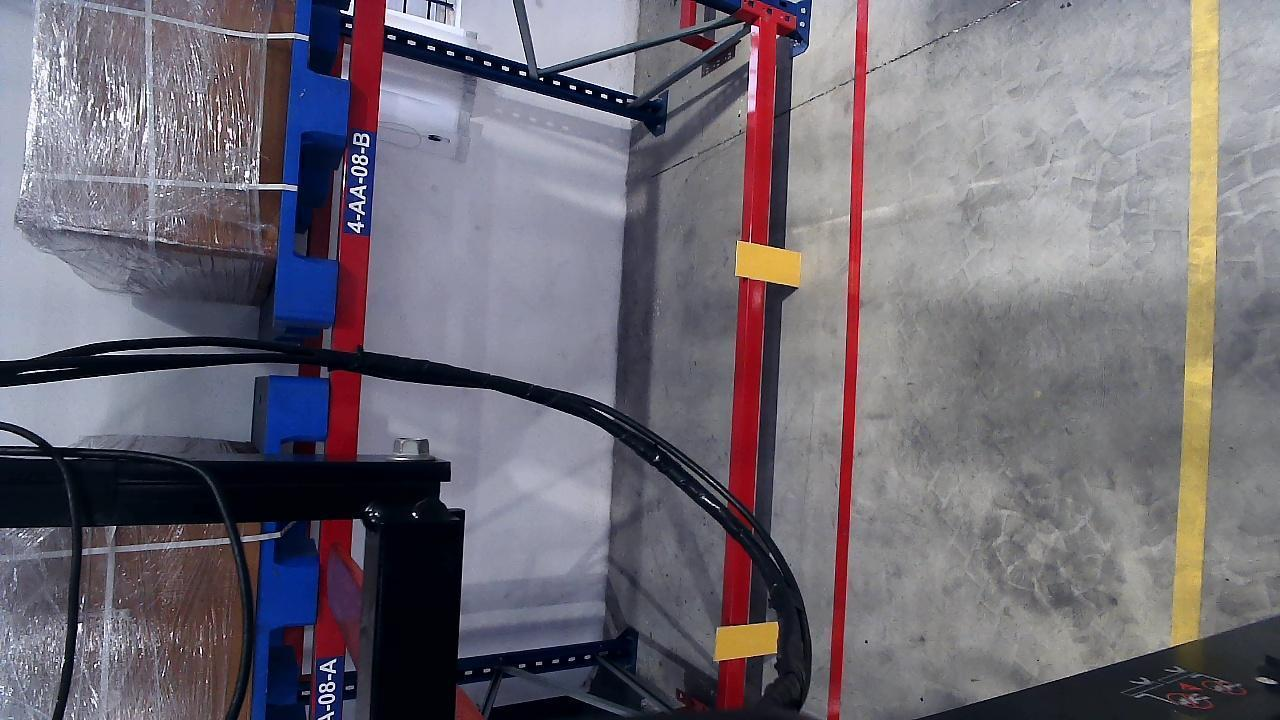red_line: (832, 9, 868, 720)
yellow_line: (1172, 0, 1221, 655)
